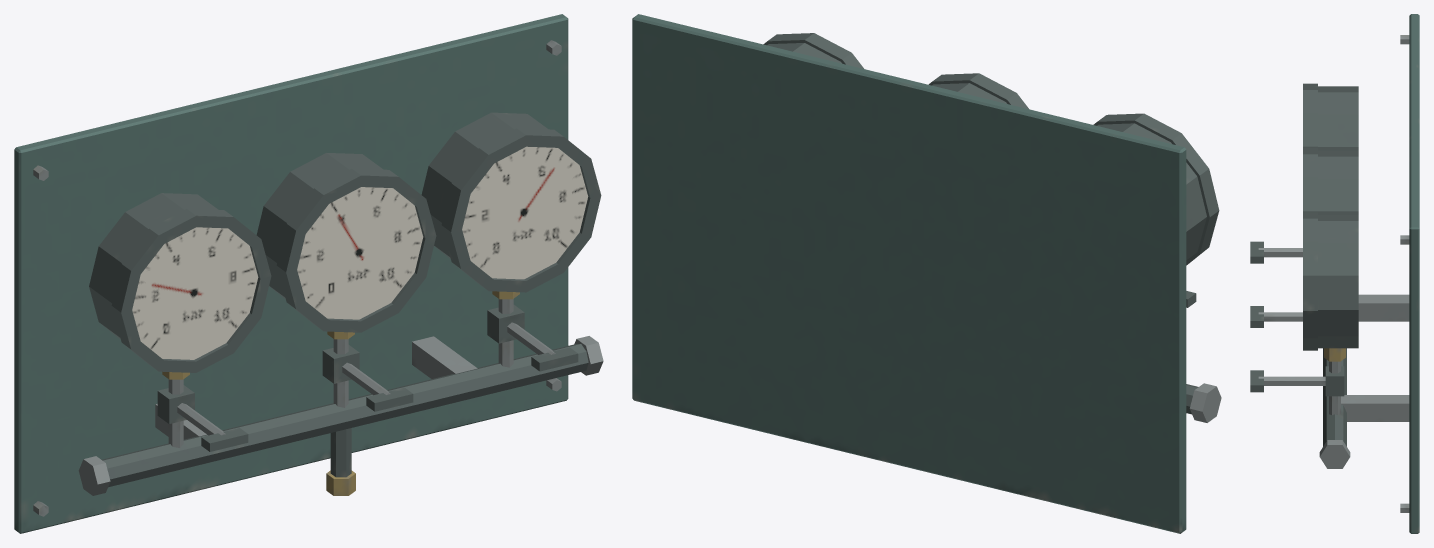
File: industry_industrial_gauge_multi.glb
The picture shows the model from 3 angles, left to right: view 1: azimuth 30°, elevation 25°; view 2: azimuth 150°, elevation 25°; view 3: azimuth 270°, elevation 25°; orthographic projection. The views are drawn at different scales.
Parts seen in each view (by area): view 1: IndustrialGauge; view 2: IndustrialGauge; view 3: IndustrialGauge.
Part boxes in pixels (x1,y1,x2,y2): IndustrialGauge: [14, 14, 603, 533]; IndustrialGauge: [632, 14, 1221, 533]; IndustrialGauge: [1250, 14, 1419, 533].
Bounding box in the file's own units: 0.6 × 0.4 × 0.2.
1 material, 1 textured.
